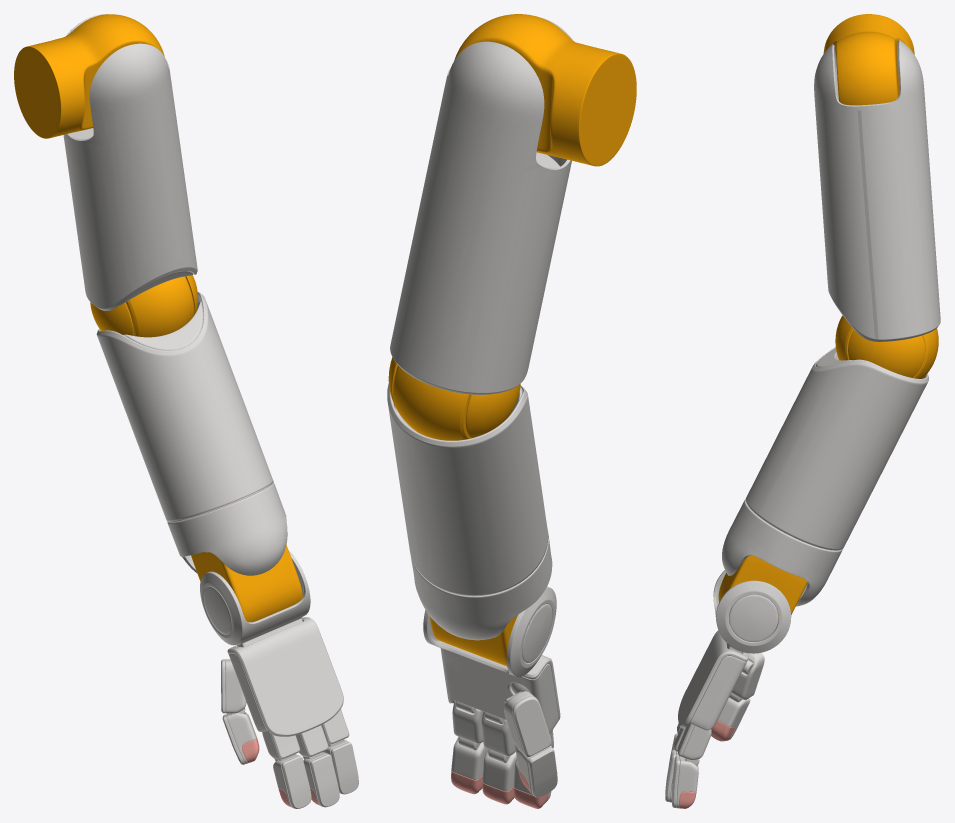
Rendered from arm.glb.
The picture shows the model from 3 angles, left to right: view 1: azimuth 30°, elevation 25°; view 2: azimuth 150°, elevation 25°; view 3: azimuth 270°, elevation 25°; orthographic projection. The views are drawn at different scales.
Visible parts, largest first — view 1: arm_bicep, arm_forearm, arm_shoulder, palm_back, arm_base, wrist, wrist_base, arm_joint, arm_forearm_upper, finger_left_02_back, finger_middle_02_back, finger_right_02_back (+6 smaller); view 2: arm_bicep, arm_forearm, arm_shoulder, arm_base, palm, arm_joint, wrist_base, arm_joint_right, finger_thumb_back, wrist, finger_thumb_02_back, wrist_detail (+7 smaller); view 3: arm_bicep, arm_forearm, arm_shoulder, arm_base, wrist_base, arm_joint_left, wrist, palm_back, wrist_detail, palm, arm_joint, finger_thumb (+3 smaller).
Part boxes in pixels (x1=…): arm_bicep: x1=63, y1=14, x2=197, y2=310; arm_forearm: x1=96, y1=292, x2=273, y2=521; arm_shoulder: x1=14, y1=14, x2=164, y2=138; palm_back: x1=227, y1=617, x2=343, y2=736; arm_base: x1=167, y1=482, x2=287, y2=575; wrist: x1=191, y1=545, x2=302, y2=622; wrist_base: x1=200, y1=550, x2=310, y2=647; arm_joint: x1=125, y1=276, x2=194, y2=337; arm_forearm_upper: x1=123, y1=301, x2=203, y2=350; finger_left_02_back: x1=281, y1=755, x2=311, y2=808; finger_middle_02_back: x1=310, y1=754, x2=339, y2=807; finger_right_02_back: x1=331, y1=742, x2=358, y2=794; arm_bicep: x1=390, y1=17, x2=573, y2=394; arm_forearm: x1=387, y1=383, x2=548, y2=596; arm_shoulder: x1=454, y1=14, x2=636, y2=166; arm_base: x1=410, y1=530, x2=552, y2=640; palm: x1=440, y1=648, x2=558, y2=733; arm_joint: x1=393, y1=365, x2=471, y2=440; wrist_base: x1=423, y1=586, x2=556, y2=676; arm_joint_right: x1=465, y1=384, x2=520, y2=438; finger_thumb_back: x1=512, y1=695, x2=551, y2=757; wrist: x1=429, y1=615, x2=517, y2=666; finger_thumb_02_back: x1=528, y1=747, x2=557, y2=797; wrist_detail: x1=522, y1=604, x2=552, y2=663; arm_bicep: x1=814, y1=40, x2=940, y2=341; arm_forearm: x1=745, y1=347, x2=928, y2=550; arm_shoulder: x1=823, y1=14, x2=914, y2=105; arm_base: x1=722, y1=499, x2=842, y2=606; wrist_base: x1=713, y1=570, x2=791, y2=653; arm_joint_left: x1=848, y1=330, x2=925, y2=377; wrist: x1=718, y1=534, x2=807, y2=622; palm_back: x1=678, y1=630, x2=748, y2=728; wrist_detail: x1=729, y1=594, x2=778, y2=641; palm: x1=690, y1=656, x2=746, y2=730; arm_joint: x1=835, y1=315, x2=938, y2=378; finger_thumb: x1=731, y1=653, x2=762, y2=699.
Bounding box in the file's own units: 0.3123 × 1 × 0.3507.
